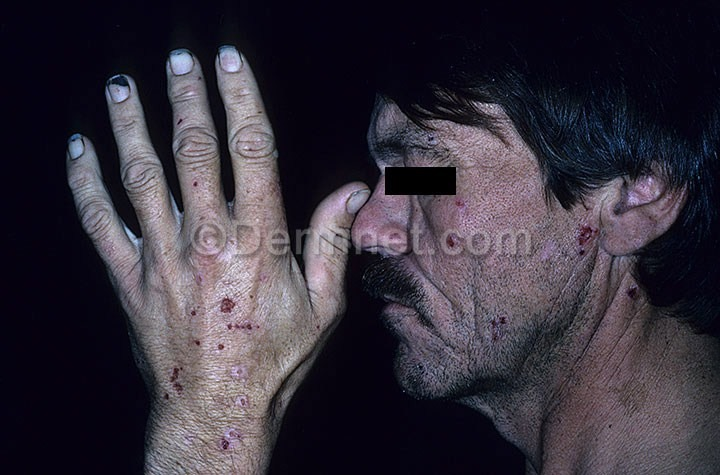Melasma: (130, 260, 293, 475), (548, 200, 654, 327), (452, 283, 526, 387), (396, 348, 434, 406)
